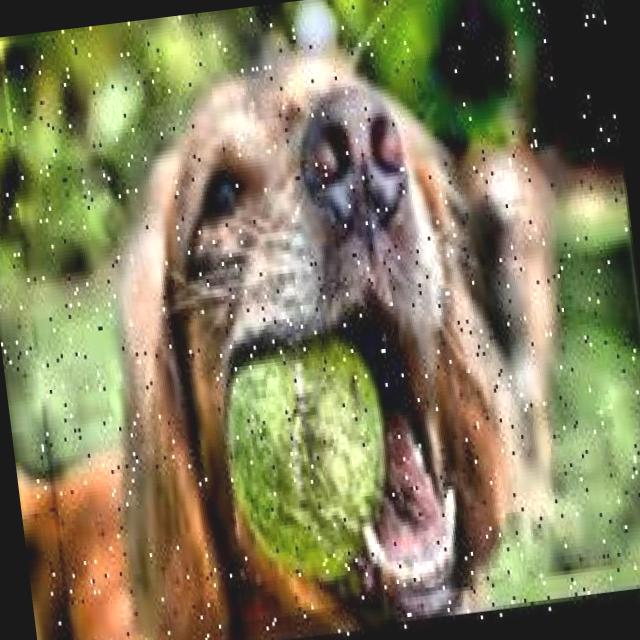tennis-ball: (215, 324, 418, 589)
